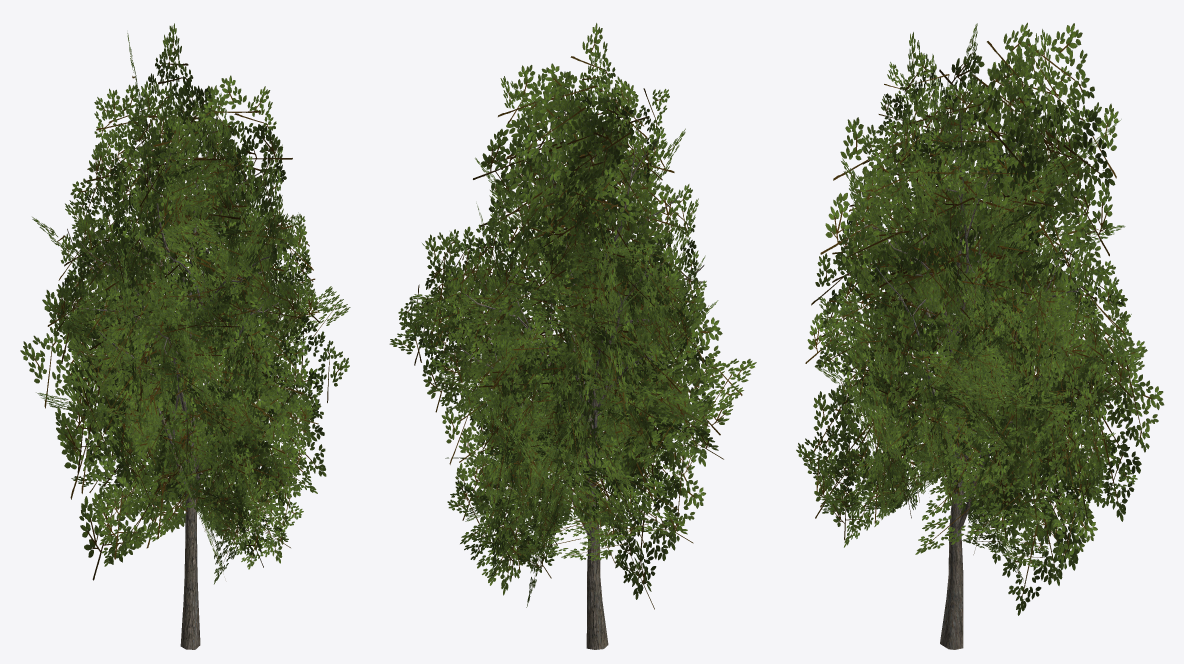
File: tree_medium_01.fbx
3 renders of one model, left to right at view 1: azimuth 30°, elevation 25°; view 2: azimuth 150°, elevation 25°; view 3: azimuth 270°, elevation 25°, orthographic. The views are drawn at different scales.
Parts seen in each view (by area): view 1: tree_medium_01; view 2: tree_medium_01; view 3: tree_medium_01.
Boxes of the visible parts, x1,y1,x2,y2 form: tree_medium_01: (20, 23, 350, 649); tree_medium_01: (389, 23, 756, 649); tree_medium_01: (796, 22, 1164, 649).
Size of the model in its own units: 15.24 by 14.04 by 26.07.
